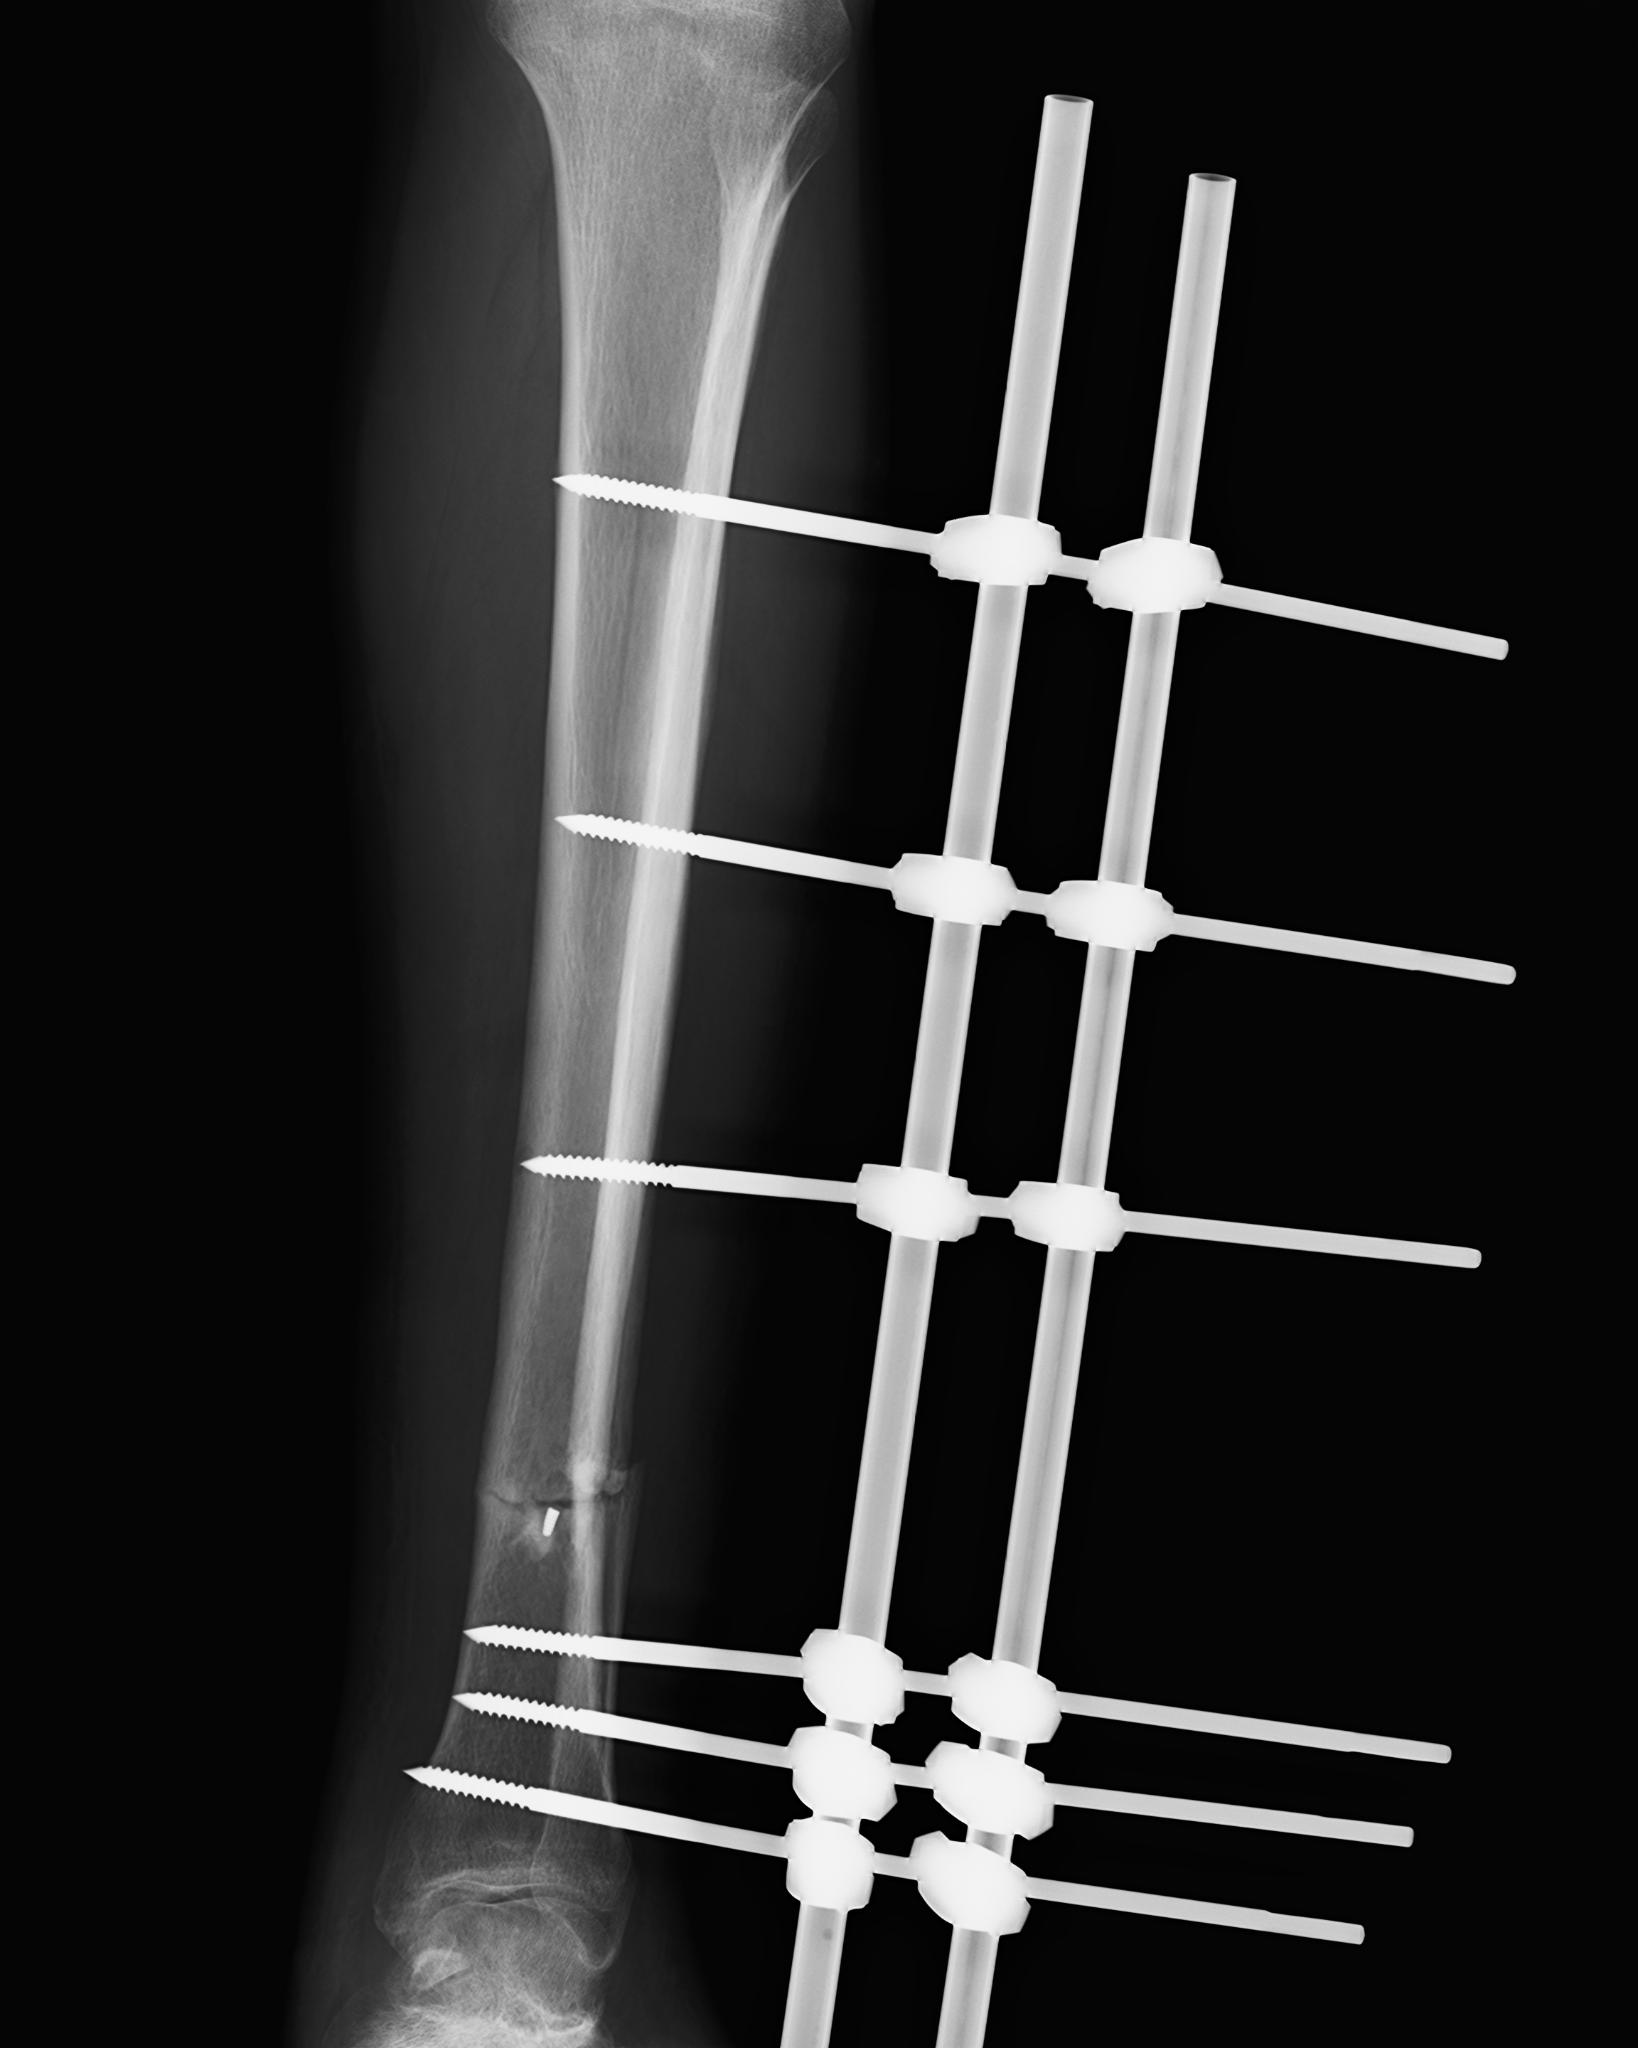fractured: (461, 1424, 650, 1575)
